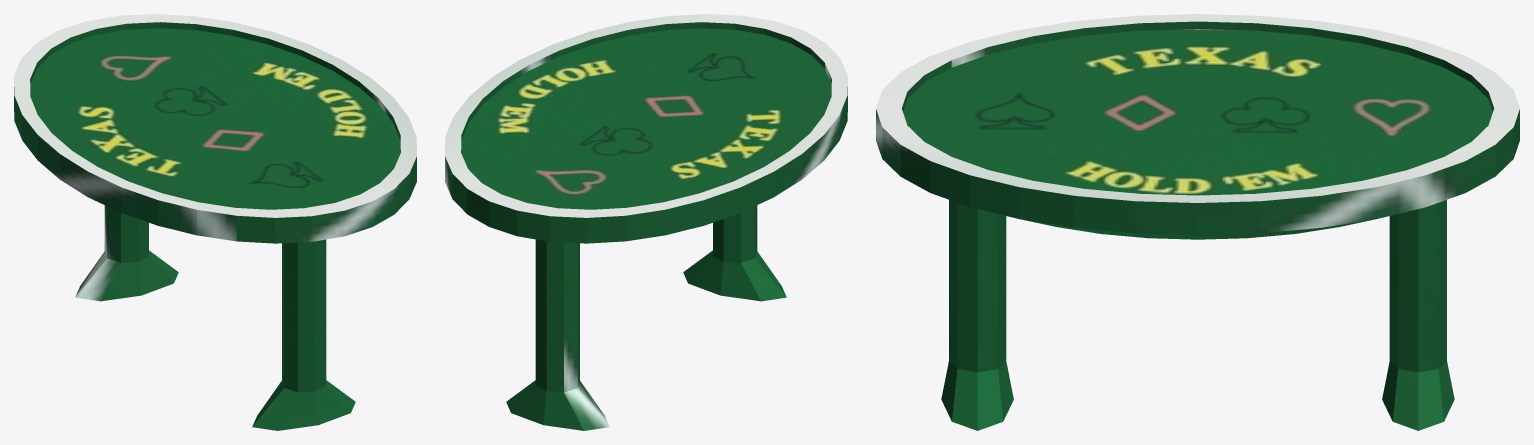
Rendered from Table 1.fbx.
3 renders of one model, left to right at view 1: azimuth 30°, elevation 25°; view 2: azimuth 150°, elevation 25°; view 3: azimuth 270°, elevation 25°, orthographic. The views are drawn at different scales.
Visible parts, largest first — view 1: Cylinder; view 2: Cylinder; view 3: Cylinder.
Part boxes in pixels (bbox=[...]): Cylinder: bbox=[14, 14, 416, 430]; Cylinder: bbox=[445, 14, 847, 430]; Cylinder: bbox=[876, 14, 1519, 430].
Bounding box in the file's own units: 345 × 248 × 497.
Materials: 1 (1 with a texture image).
